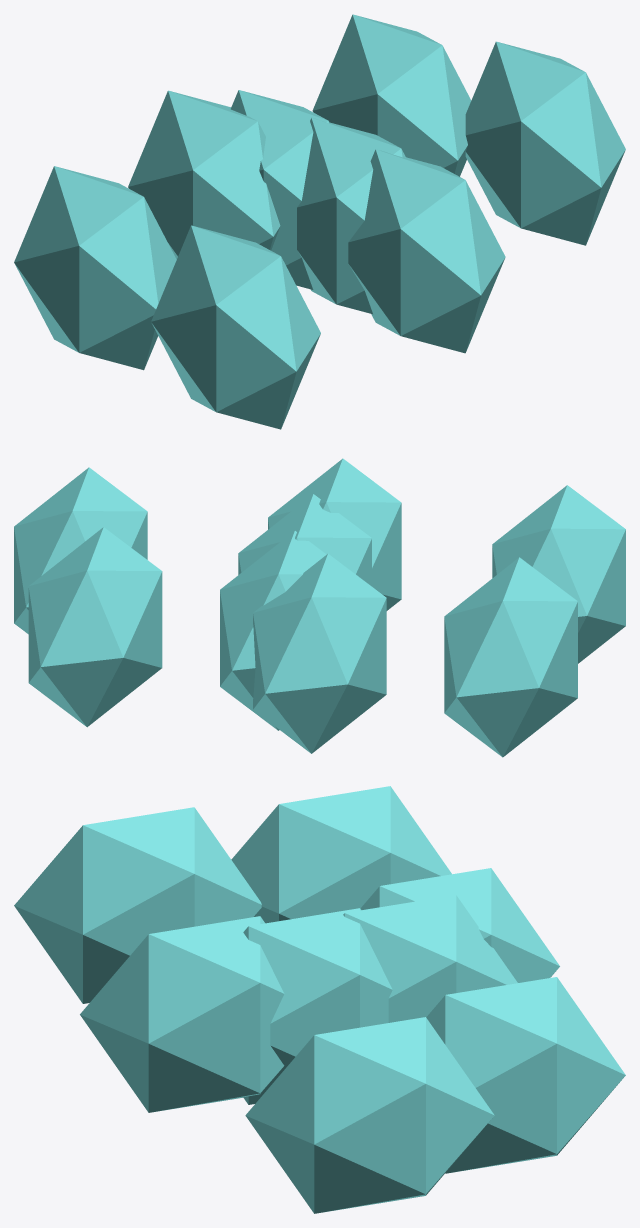
File: GLASS(1).fbx
3 renders of one model, top to bottom at view 1: azimuth 30°, elevation 25°; view 2: azimuth 150°, elevation 25°; view 3: azimuth 270°, elevation 25°, orthographic. The views are drawn at different scales.
Parts seen in each view (by area): view 1: pPlatonic8, pPlatonic4, pPlatonic5, pPlatonic3, pPlatonic7, pPlatonic2, pPlatonic6, pPlatonic1; view 2: pPlatonic2, pPlatonic5, pPlatonic7, pPlatonic8, pPlatonic4, pPlatonic1, pPlatonic3, pPlatonic6; view 3: pPlatonic4, pPlatonic3, pPlatonic8, pPlatonic2, pPlatonic5, pPlatonic6, pPlatonic1, pPlatonic7.
Boxes of the visible parts, x1=… form: pPlatonic8: x1=151, y1=225, x2=320, y2=429; pPlatonic4: x1=465, y1=41, x2=625, y2=245; pPlatonic5: x1=14, y1=166, x2=176, y2=370; pPlatonic3: x1=348, y1=149, x2=505, y2=353; pPlatonic7: x1=128, y1=90, x2=280, y2=259; pPlatonic2: x1=312, y1=14, x2=471, y2=176; pPlatonic6: x1=297, y1=117, x2=405, y2=314; pPlatonic1: x1=231, y1=90, x2=329, y2=289; pPlatonic2: x1=28, y1=527, x2=162, y2=727; pPlatonic5: x1=444, y1=557, x2=577, y2=757; pPlatonic7: x1=253, y1=554, x2=386, y2=753; pPlatonic8: x1=492, y1=485, x2=625, y2=663; pPlatonic4: x1=14, y1=467, x2=147, y2=634; pPlatonic1: x1=220, y1=531, x2=326, y2=730; pPlatonic3: x1=268, y1=458, x2=401, y2=610; pPlatonic6: x1=238, y1=494, x2=371, y2=586; pPlatonic4: x1=245, y1=1017, x2=494, y2=1213; pPlatonic3: x1=80, y1=916, x2=284, y2=1112; pPlatonic8: x1=14, y1=807, x2=261, y2=1003; pPlatonic2: x1=426, y1=977, x2=625, y2=1173; pPlatonic5: x1=231, y1=786, x2=451, y2=923; pPlatonic6: x1=243, y1=908, x2=392, y2=1104; pPlatonic1: x1=343, y1=895, x2=517, y2=1022; pPlatonic7: x1=360, y1=868, x2=559, y2=982.
Size of the model in its own units: 0.2916 by 0.0841 by 0.2607.
